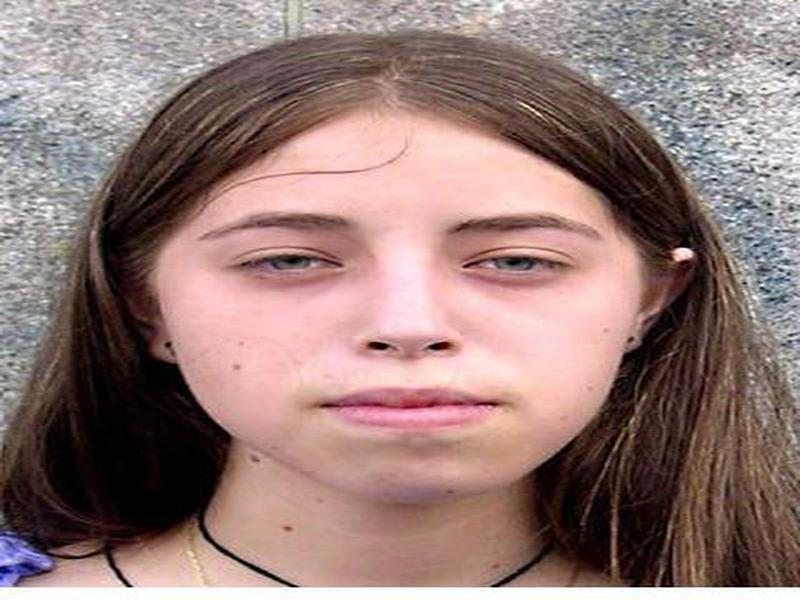without_mask: (156, 150, 616, 500)
